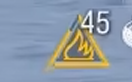1fire: (46, 38, 114, 70)
